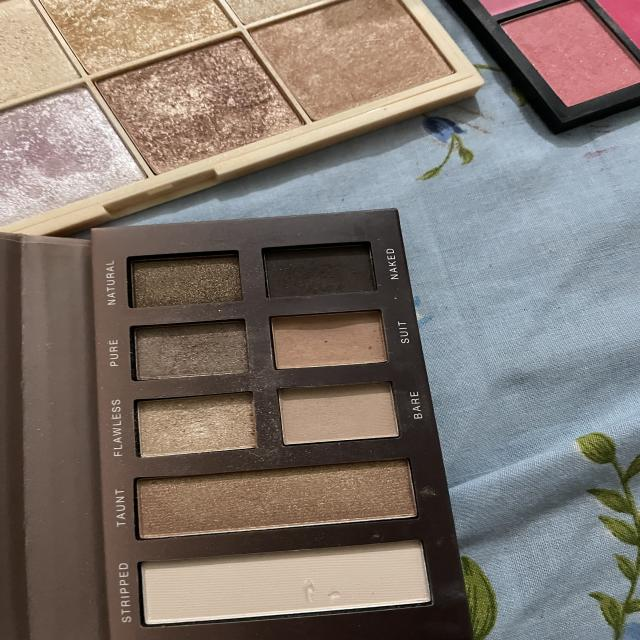blush: (487, 0, 640, 122)
eye shade: (119, 539, 449, 630), (113, 457, 431, 544), (102, 392, 270, 465), (252, 309, 411, 380), (268, 380, 416, 456), (119, 315, 259, 391), (253, 230, 391, 300), (109, 248, 253, 313)
highlighter: (87, 22, 320, 185), (236, 0, 466, 129), (0, 78, 159, 237), (27, 0, 244, 88), (0, 0, 92, 122), (200, 0, 346, 38)
